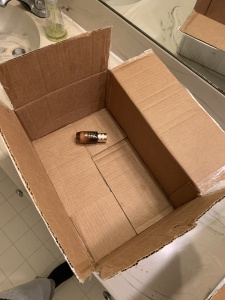innerbox: (27, 79, 165, 251)
outerbox: (2, 28, 223, 270)
product: (75, 129, 107, 142)
